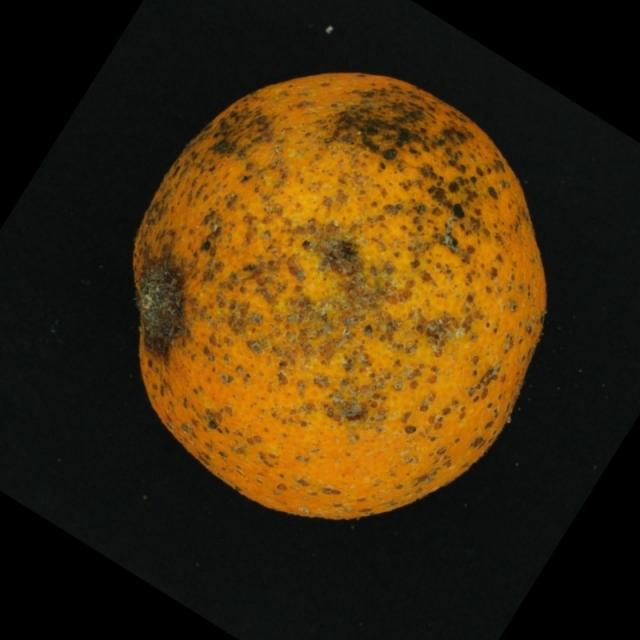grenning: (96, 46, 573, 548)
